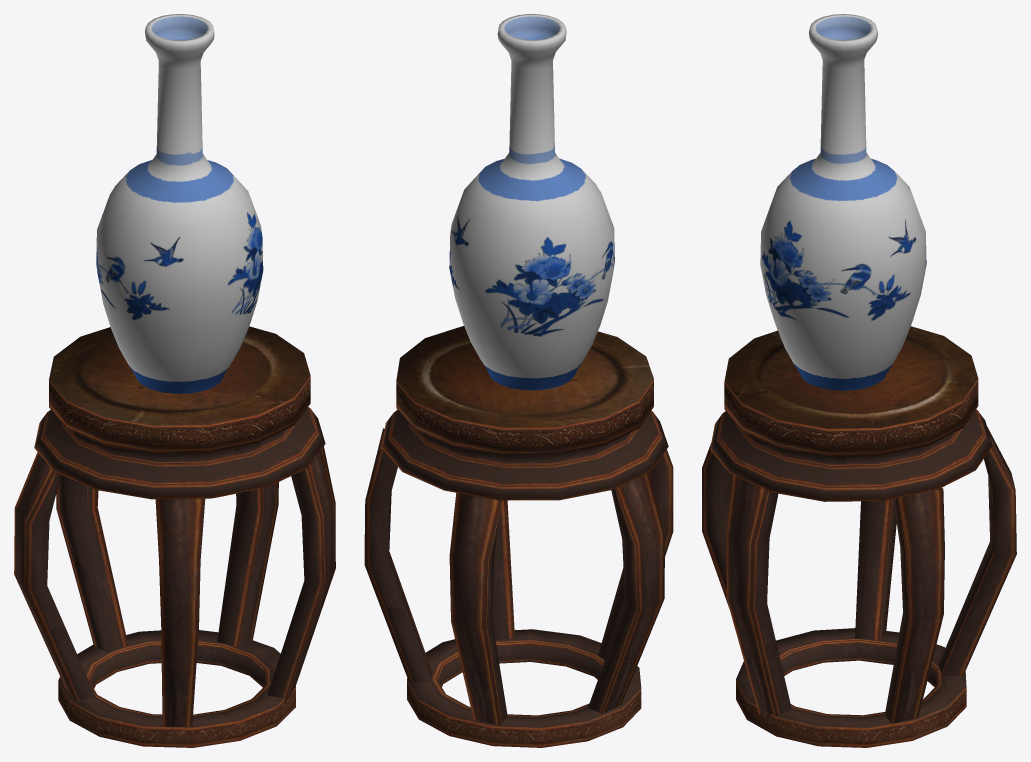
The model's file is Tank_8.FBX.
3 renders of one model, left to right at view 1: azimuth 30°, elevation 25°; view 2: azimuth 150°, elevation 25°; view 3: azimuth 270°, elevation 25°, orthographic.
Visible parts, largest first — view 1: Tank_8; view 2: Tank_8; view 3: Tank_8.
Boxes of the visible parts, x1,y1,x2,y2 form: Tank_8: [14, 14, 335, 747]; Tank_8: [364, 14, 673, 747]; Tank_8: [702, 14, 1016, 747].
Size of the model in its own units: 17.54 by 40.97 by 17.49.
